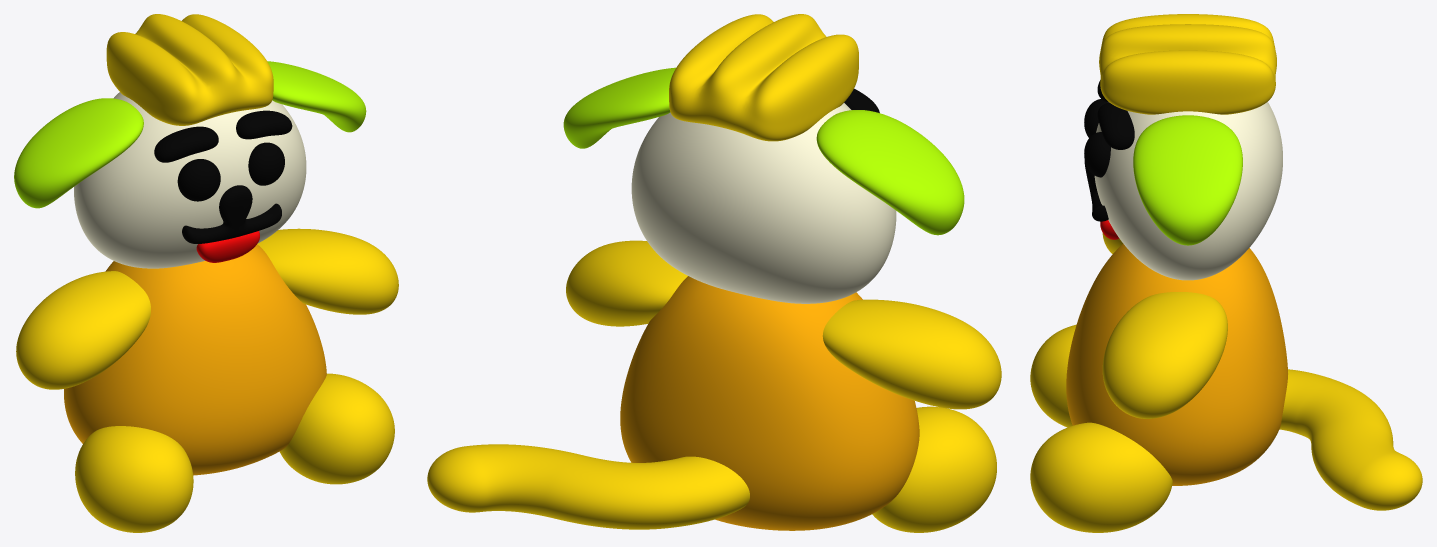
Rendered from okenpi02.glb.
3 renders of one model, left to right at view 1: azimuth 30°, elevation 25°; view 2: azimuth 150°, elevation 25°; view 3: azimuth 270°, elevation 25°, orthographic. The views are drawn at different scales.
Visible parts, largest first — view 1: Object; view 2: Object; view 3: Object.
Boxes of the visible parts, box(x1,y1,x2,y2) form: Object: box(14, 14, 398, 532); Object: box(427, 14, 1001, 532); Object: box(1030, 14, 1422, 532).
Bounding box in the file's own units: 9 × 9.79 × 7.76.
